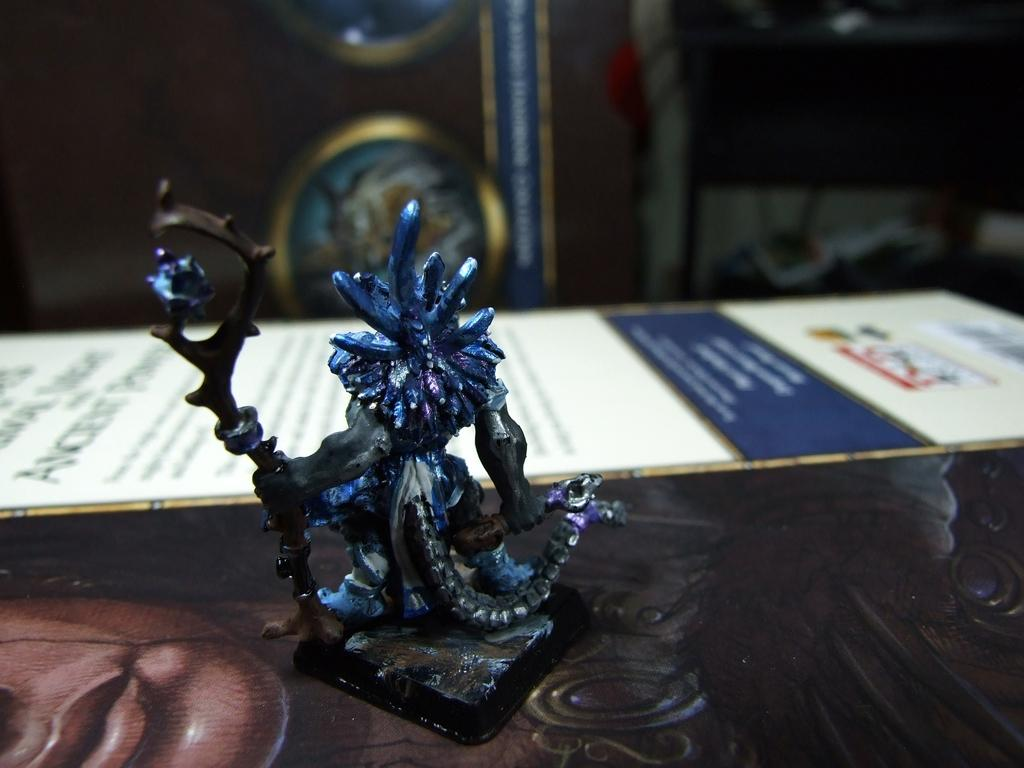Sem Máscara: (0, 595, 285, 766)
